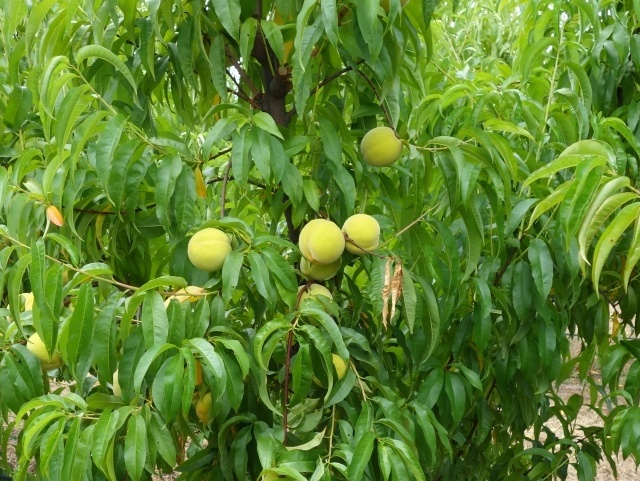peach: (292, 214, 348, 267), (184, 226, 238, 273), (21, 328, 69, 376), (355, 125, 404, 172), (336, 212, 385, 259), (293, 281, 340, 317), (310, 353, 348, 392), (190, 390, 219, 429)
